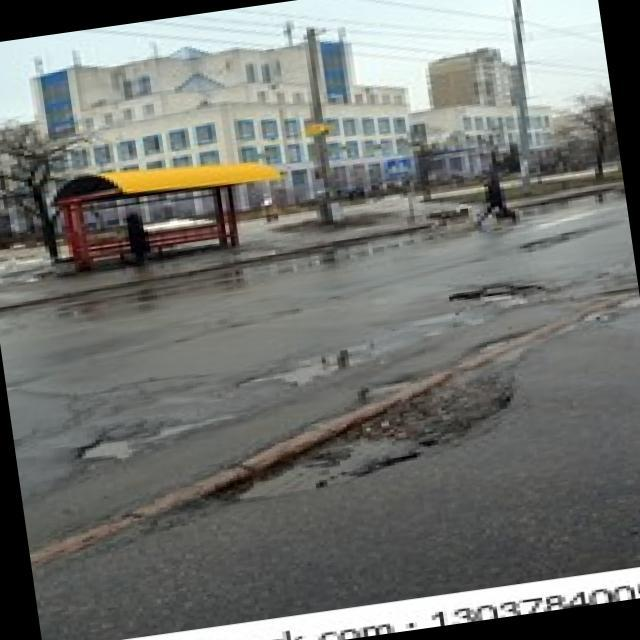Pothole: (188, 360, 527, 511), (444, 276, 546, 310), (68, 430, 141, 468), (514, 224, 594, 254), (361, 376, 416, 405)
